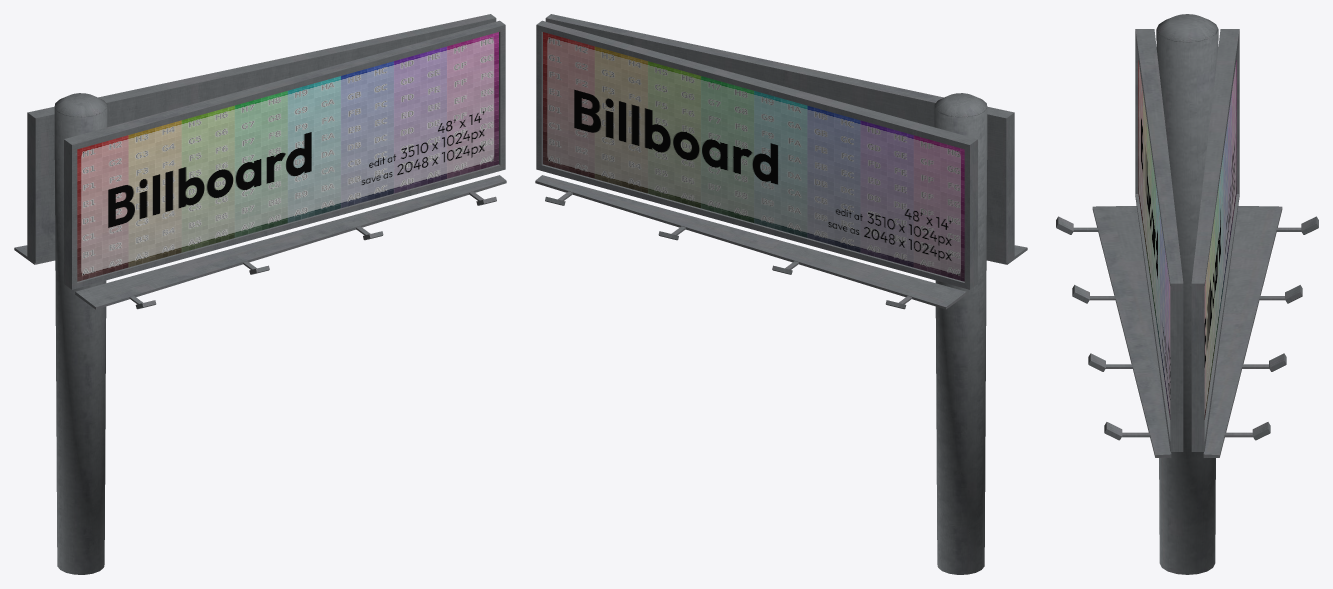
Rendered from signs_billboard_2.glb.
The picture shows the model from 3 angles, left to right: view 1: azimuth 30°, elevation 25°; view 2: azimuth 150°, elevation 25°; view 3: azimuth 270°, elevation 25°; orthographic projection. The views are drawn at different scales.
Parts seen in each view (by area): view 1: billboard-2.baked; view 2: billboard-2.baked; view 3: billboard-2.baked.
Part boxes in pixels (x1=…): billboard-2.baked: x1=14, y1=14, x2=506, y2=574; billboard-2.baked: x1=535, y1=14, x2=1027, y2=574; billboard-2.baked: x1=1056, y1=14, x2=1318, y2=574.
Size of the model in its own units: 18.68 by 18.52 by 8.15.
2 materials, 2 textured.
